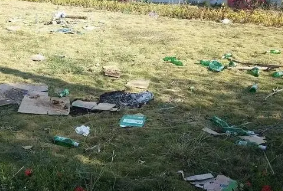garbage: (198, 114, 274, 154), (1, 76, 71, 119), (71, 84, 150, 114), (179, 162, 244, 191), (44, 132, 85, 152), (197, 55, 235, 75), (110, 114, 149, 129), (71, 122, 100, 138), (161, 51, 190, 66), (24, 162, 45, 177), (242, 84, 263, 97), (250, 63, 267, 76), (267, 46, 282, 57), (271, 66, 283, 79)
